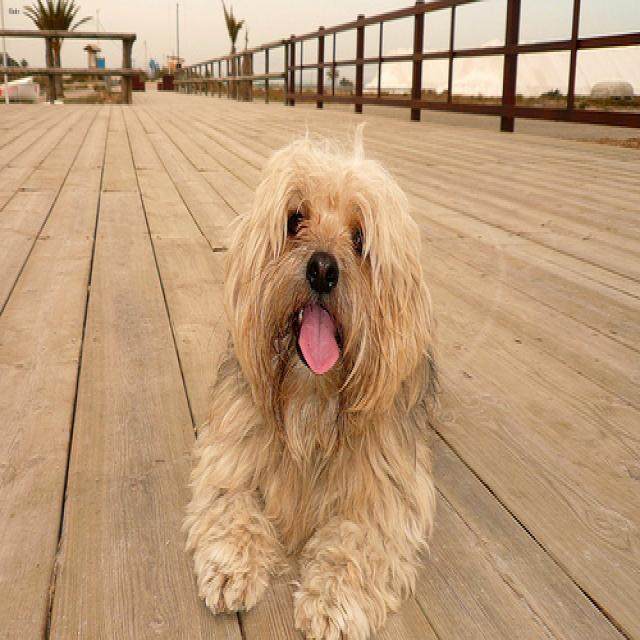dog-havanese: (179, 114, 449, 636)
